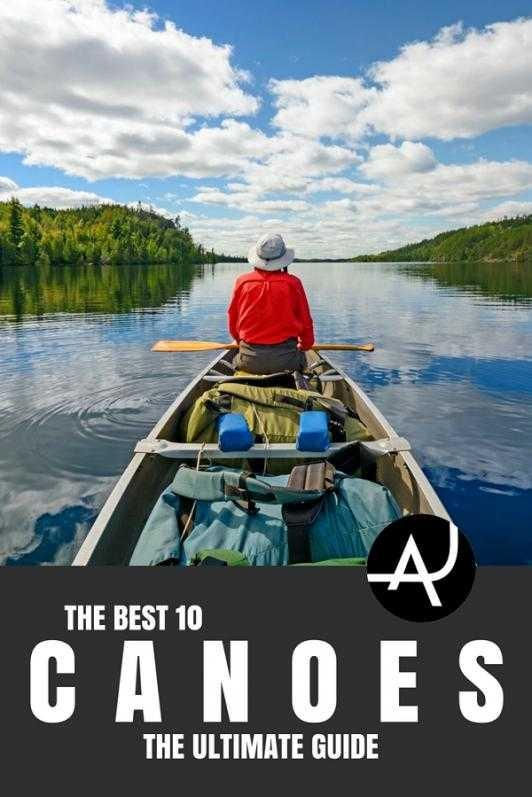kayak: (72, 339, 478, 605)
